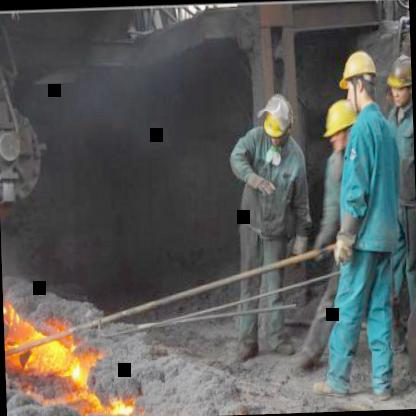helmet: (336, 46, 382, 114), (322, 98, 359, 160), (260, 100, 290, 144), (388, 56, 412, 106)
